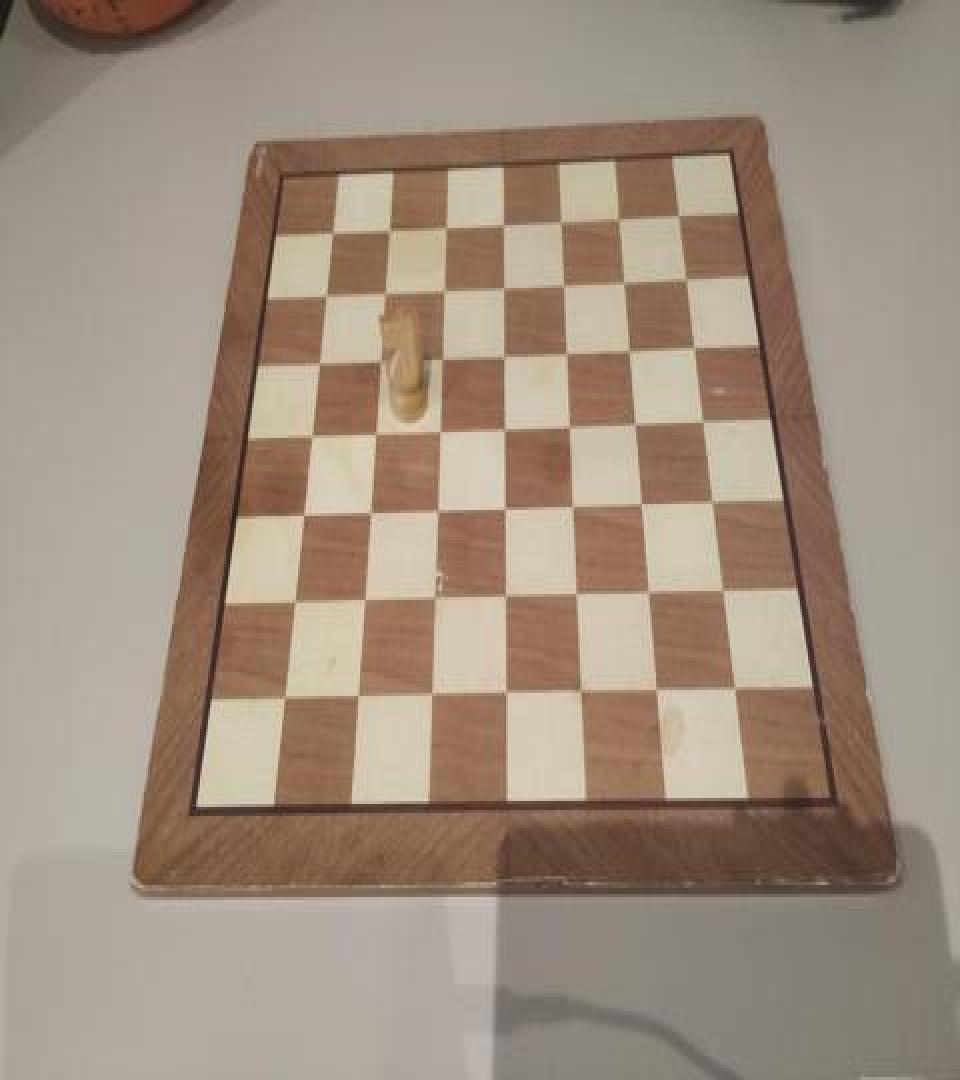xcorner: (358, 499, 378, 530), (314, 280, 334, 311), (274, 686, 294, 716), (346, 684, 366, 714), (495, 681, 515, 711), (570, 680, 590, 710), (647, 678, 667, 708), (724, 676, 744, 706), (283, 590, 303, 620), (423, 585, 443, 615), (494, 584, 514, 614), (639, 579, 659, 609), (712, 576, 732, 606), (292, 501, 312, 531), (425, 496, 445, 526), (493, 495, 513, 525), (562, 492, 582, 522), (631, 489, 651, 519), (702, 486, 722, 516), (300, 422, 320, 452), (363, 418, 383, 448), (427, 416, 447, 446), (492, 414, 512, 444), (558, 411, 578, 441), (624, 408, 644, 438), (692, 405, 712, 435), (307, 348, 327, 378), (368, 345, 388, 375), (429, 342, 449, 372), (492, 339, 512, 369), (555, 336, 575, 366), (618, 333, 638, 363), (683, 330, 703, 360), (372, 278, 392, 308), (431, 274, 451, 304), (491, 270, 511, 300), (551, 267, 571, 297), (613, 264, 633, 294), (674, 261, 694, 291), (320, 219, 340, 249), (376, 214, 396, 244), (433, 212, 453, 242), (490, 207, 510, 237), (549, 204, 569, 234), (607, 201, 627, 231), (667, 196, 687, 226), (420, 683, 440, 712), (353, 587, 373, 616), (566, 581, 586, 610)
